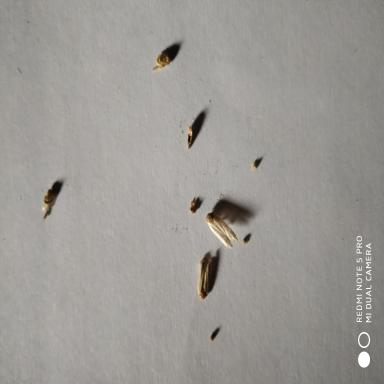pbw: (204, 208, 240, 250), (196, 252, 214, 304)
